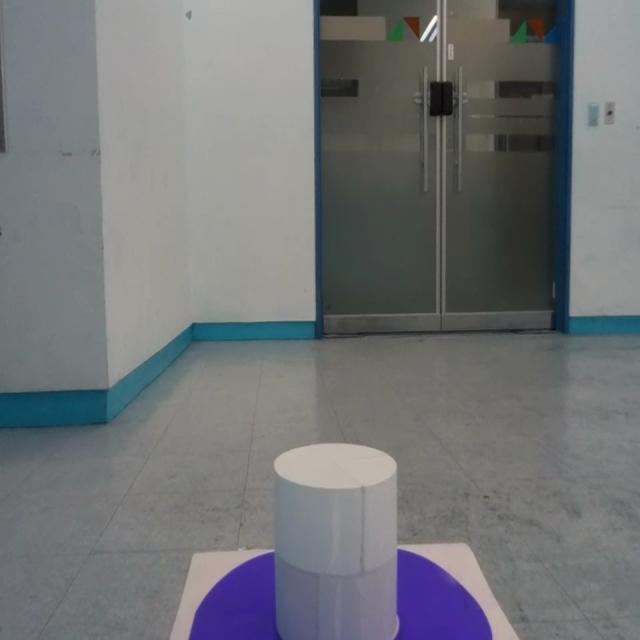cylinder: (270, 444, 398, 640)
